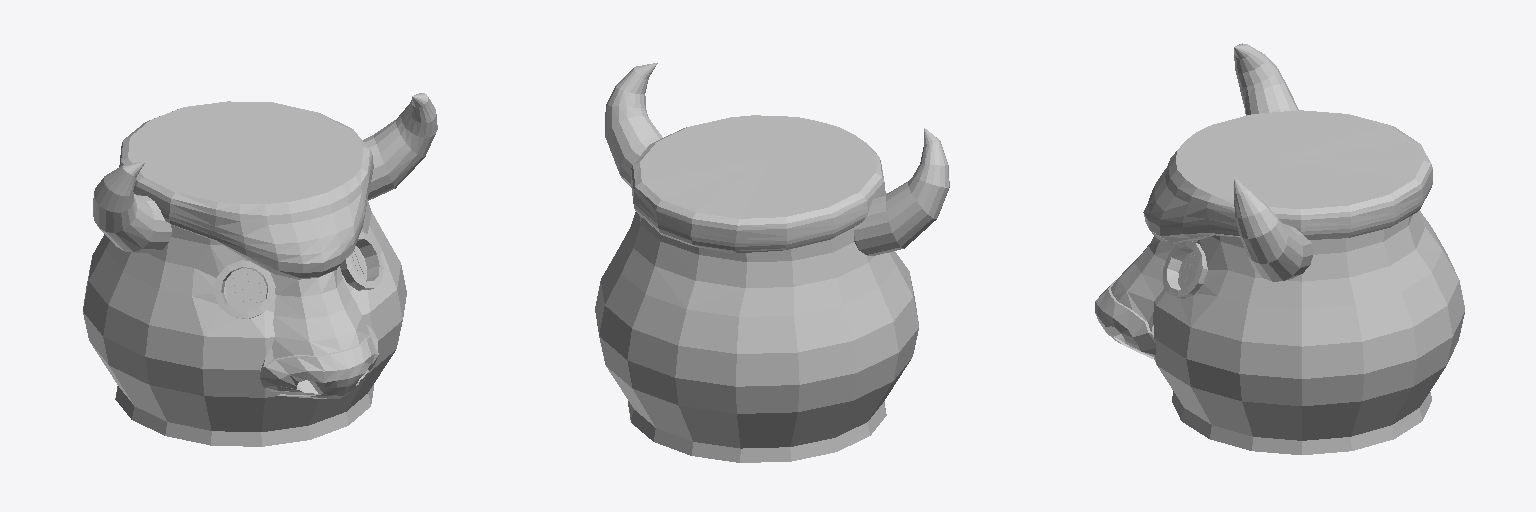
Rendered from nativeAmerican_tower_bison_d0.obj.
3 renders of one model, left to right at view 1: azimuth 30°, elevation 25°; view 2: azimuth 150°, elevation 25°; view 3: azimuth 270°, elevation 25°, orthographic.
Visible parts, largest first — view 1: Nose, Base, Horns, Eyes; view 2: Base, Nose, Horns; view 3: Base, Nose, Horns, Eyes.
Boxes of the visible parts, x1=… form: Nose: x1=119, y1=101, x2=378, y2=398; Base: x1=83, y1=200, x2=406, y2=446; Horns: x1=93, y1=93, x2=437, y2=252; Eyes: x1=214, y1=232, x2=383, y2=318; Base: x1=595, y1=212, x2=918, y2=462; Nose: x1=631, y1=115, x2=885, y2=252; Horns: x1=605, y1=63, x2=949, y2=255; Base: x1=1153, y1=210, x2=1464, y2=454; Nose: x1=1095, y1=110, x2=1432, y2=358; Horns: x1=1234, y1=43, x2=1312, y2=281; Eyes: x1=1163, y1=241, x2=1207, y2=298.
Bounding box in the file's own units: 9.8 × 7.98 × 9.3.